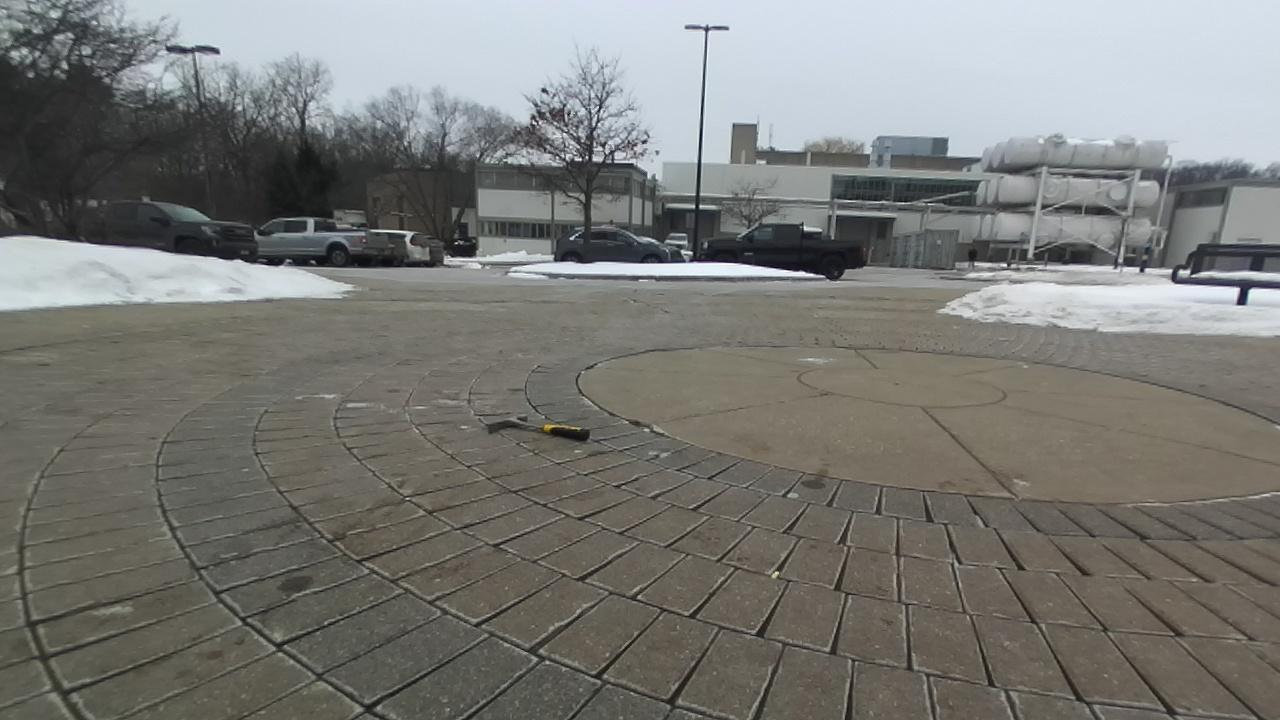pick: (485, 415, 590, 441)
